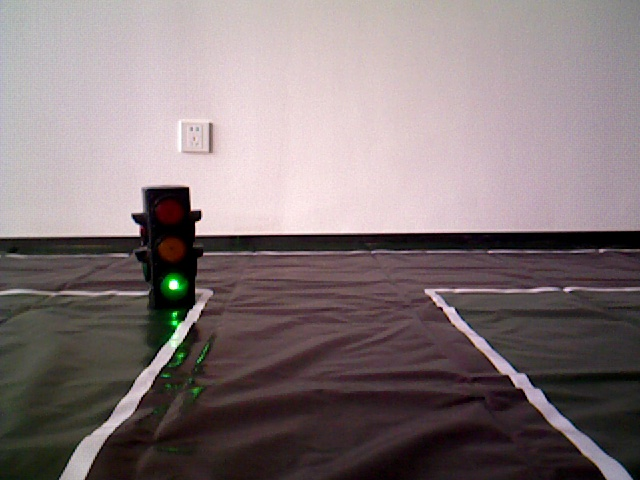green: (145, 191, 193, 299)
